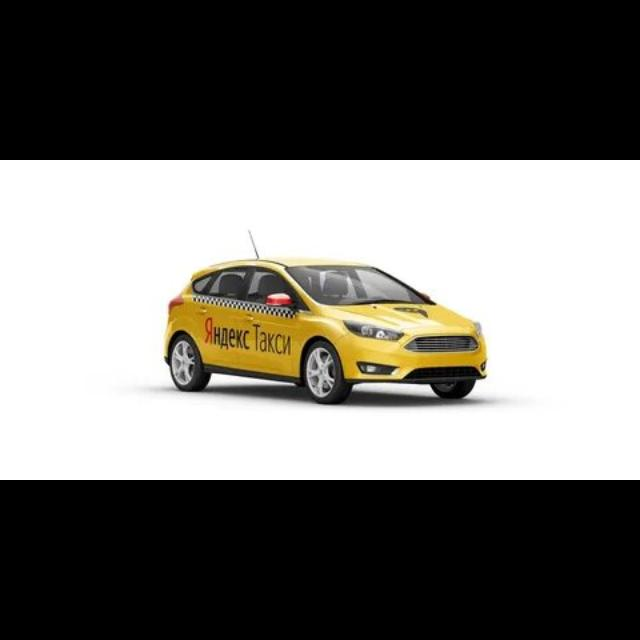taxi: (163, 232, 489, 405)
